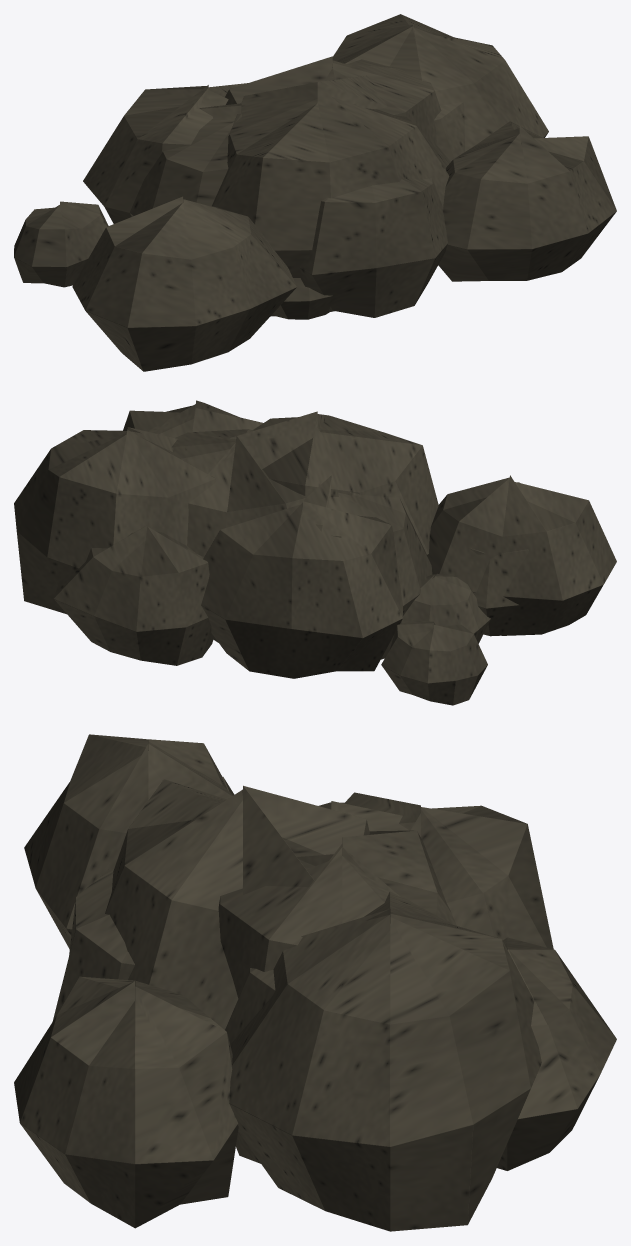
File: PROP-852CB1BCD0F4_lod1.glb
The picture shows the model from 3 angles, top to bottom: view 1: azimuth 30°, elevation 25°; view 2: azimuth 150°, elevation 25°; view 3: azimuth 270°, elevation 25°; orthographic projection. The views are drawn at different scales.
Visible parts, largest first — view 1: rock.007; view 2: rock.007; view 3: rock.007.
Part boxes in pixels (box(x1,y1,x2,y2)): rock.007: box(14, 14, 616, 371); rock.007: box(14, 400, 616, 705); rock.007: box(14, 734, 616, 1231).
Size of the model in its own units: 1.38 by 0.4854 by 0.9453.
Materials: 1 (1 with a texture image).
